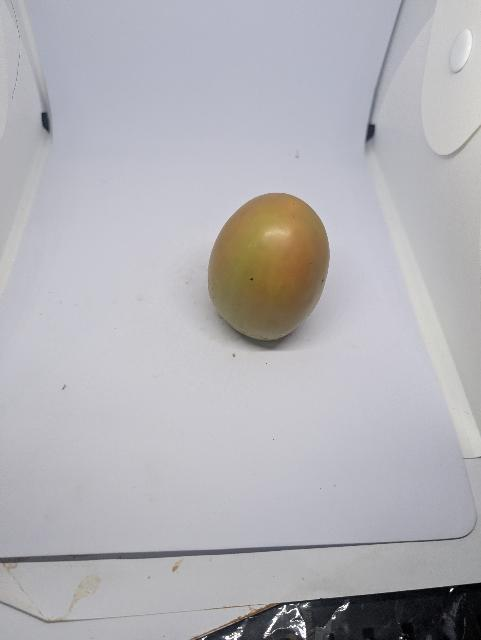breaker: (205, 190, 336, 346)
